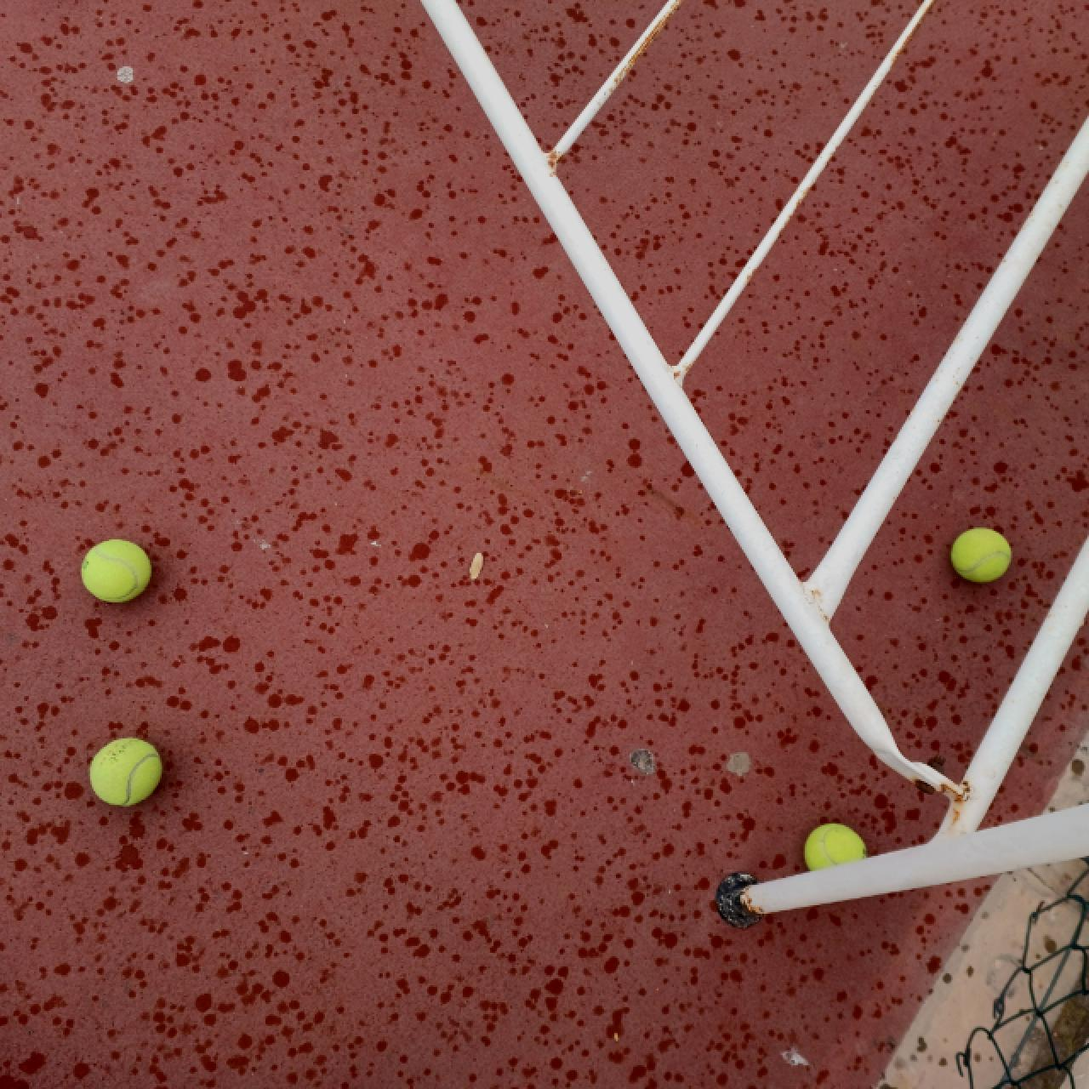tennis-ball: (88, 735, 163, 808), (81, 535, 152, 603), (801, 820, 869, 882), (950, 526, 1011, 582)
